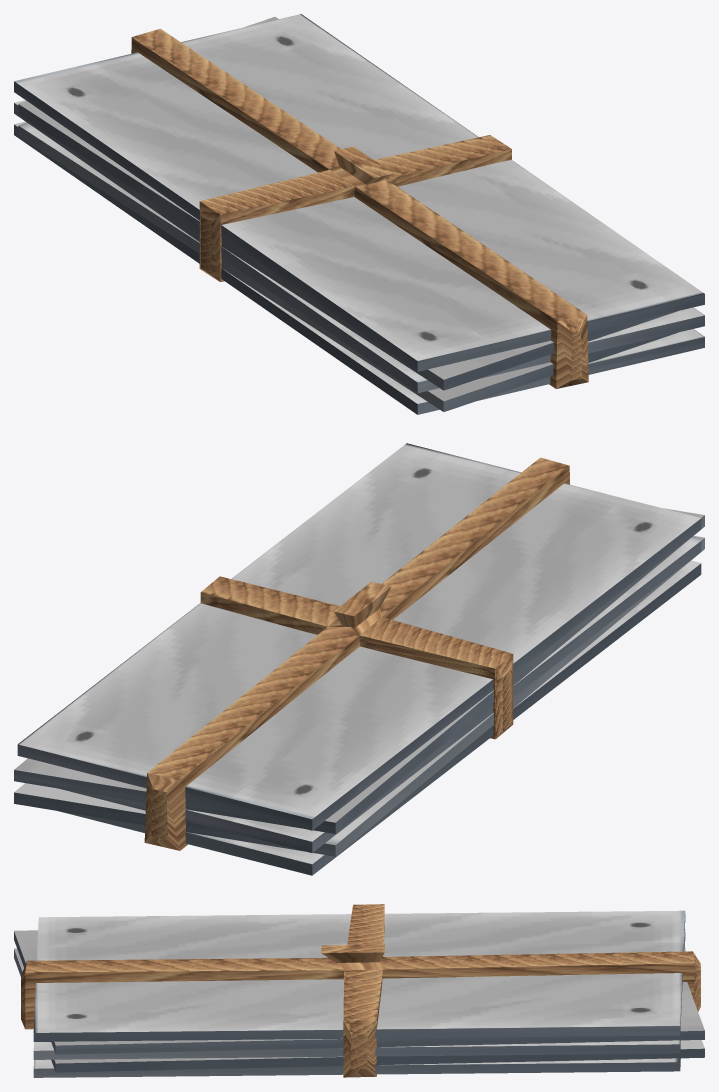
The model's file is DJG_BoundMetalSheets5.fbx.
The picture shows the model from 3 angles, top to bottom: view 1: azimuth 30°, elevation 25°; view 2: azimuth 150°, elevation 25°; view 3: azimuth 270°, elevation 25°; orthographic projection. The views are drawn at different scales.
Parts seen in each view (by area): view 1: Metal Sheets x5; view 2: Metal Sheets x5; view 3: Metal Sheets x5.
Part boxes in pixels (x1,y1,x2,y2): Metal Sheets x5: [14, 14, 704, 414]; Metal Sheets x5: [14, 443, 704, 875]; Metal Sheets x5: [14, 904, 704, 1077].
Bounding box in the file's own units: 0.2128 × 0.0542 × 0.4795.
Materials: 1 (1 with a texture image).
